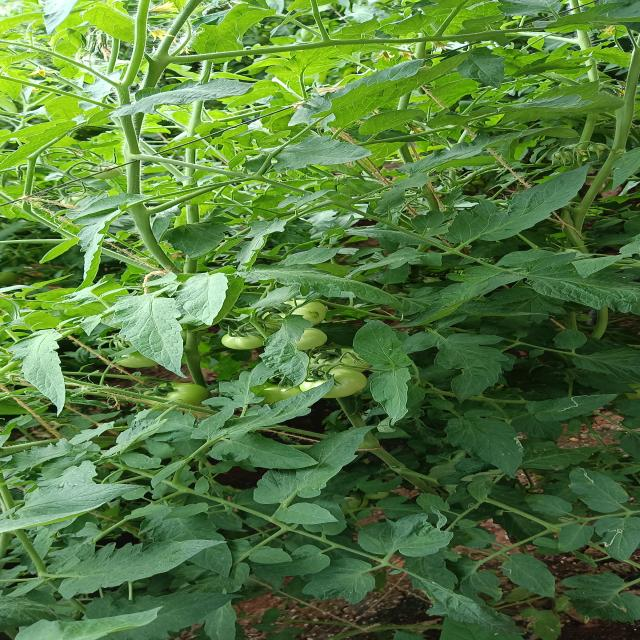Healthy Leaf: (465, 163, 607, 254), (31, 538, 233, 598), (101, 292, 200, 378), (441, 417, 530, 476), (356, 517, 459, 561), (554, 463, 640, 512), (490, 550, 564, 603), (164, 273, 239, 320), (351, 317, 412, 363), (198, 604, 268, 640), (269, 506, 355, 531), (240, 546, 298, 562)
